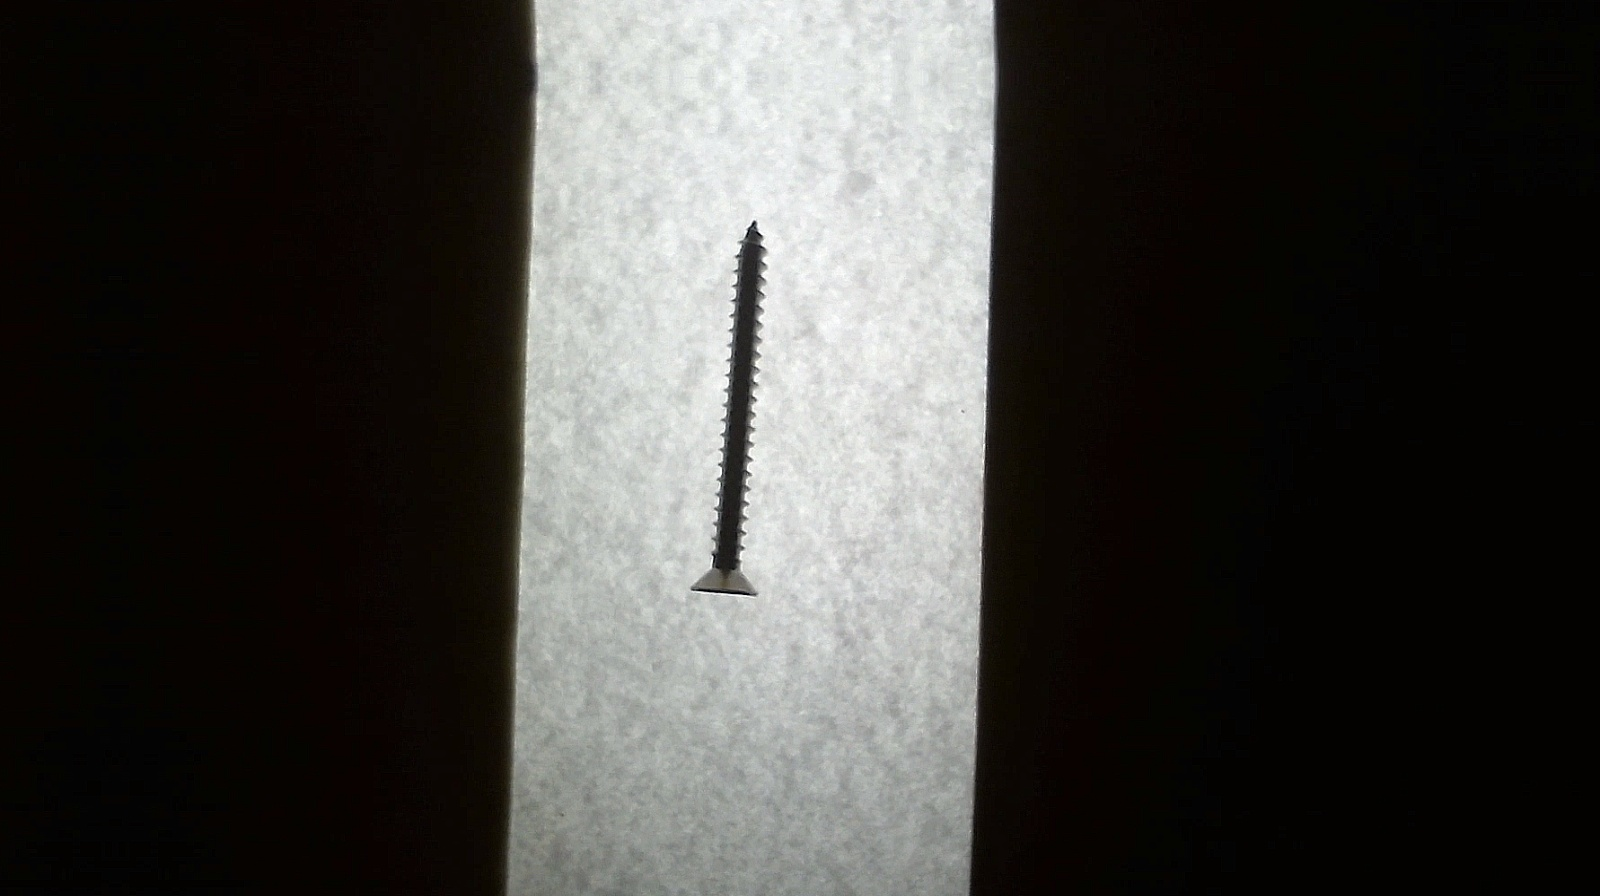S002: (648, 211, 812, 611)
